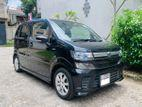car: (14, 19, 124, 100)
